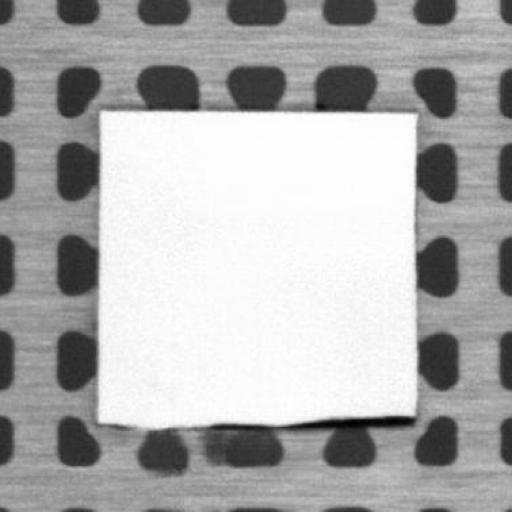DIE_BROKEN: (283, 410, 417, 430)
